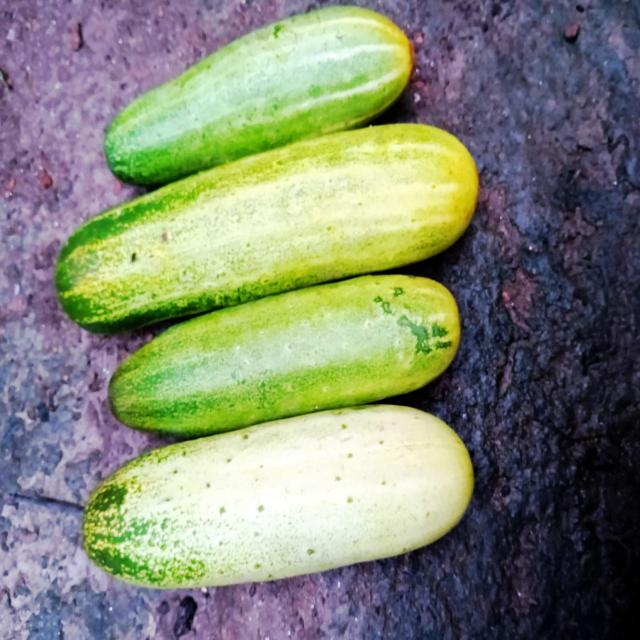Fresh-Cucumber: (52, 122, 480, 336), (79, 400, 478, 594), (106, 270, 466, 438), (101, 5, 416, 187)
